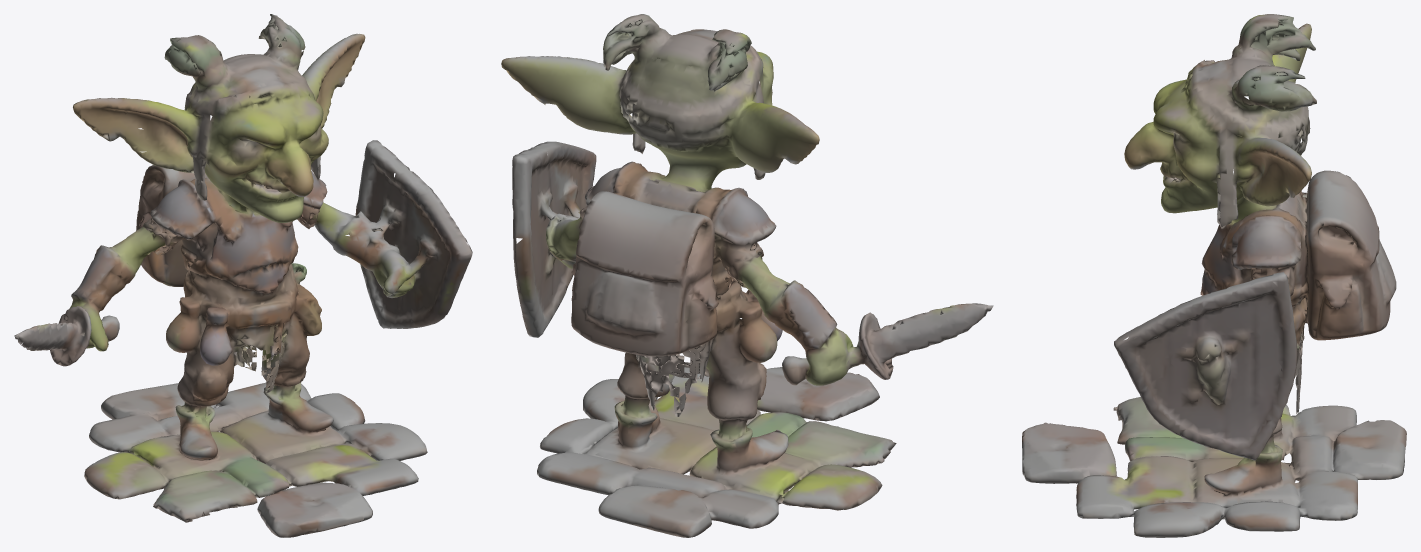
The model's file is goblin.glb.
3 renders of one model, left to right at view 1: azimuth 30°, elevation 25°; view 2: azimuth 150°, elevation 25°; view 3: azimuth 270°, elevation 25°, orthographic. The views are drawn at different scales.
Bounding box in the file's own units: 0.9953 × 0.9259 × 0.7448.
